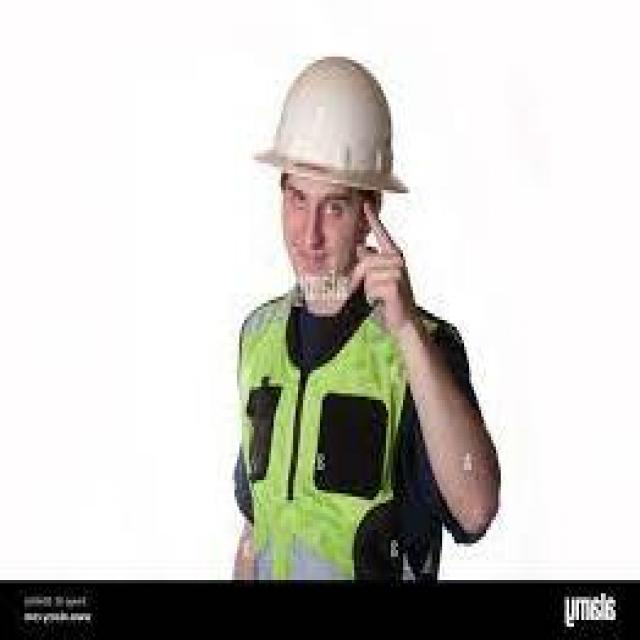Reflective-Jacket: (227, 293, 452, 587)
Safety-Helmet: (252, 46, 412, 206)
